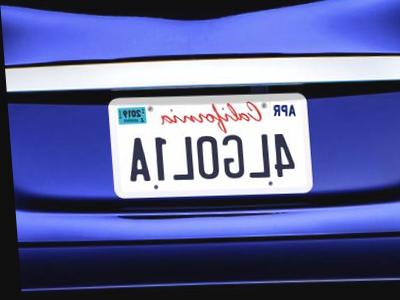License_Plate: (106, 89, 313, 199)
